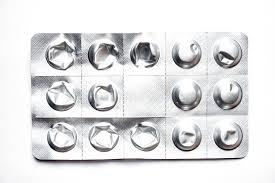pill_Strip: (31, 34, 103, 159)
